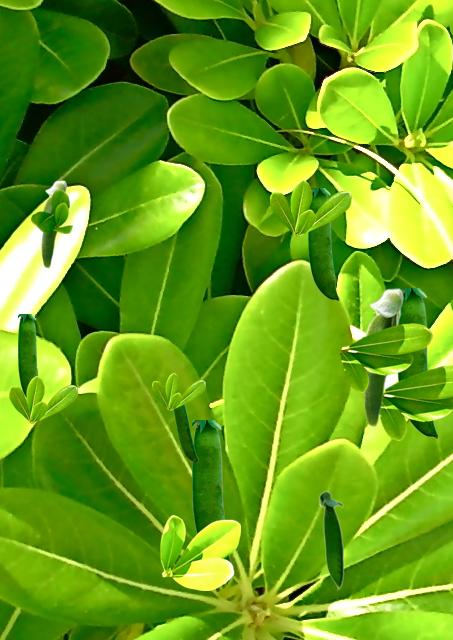pea: (397, 288, 437, 439), (192, 420, 232, 563), (363, 288, 403, 426), (308, 188, 338, 301), (318, 490, 343, 590), (41, 180, 66, 267), (18, 314, 38, 395), (173, 405, 197, 461)
